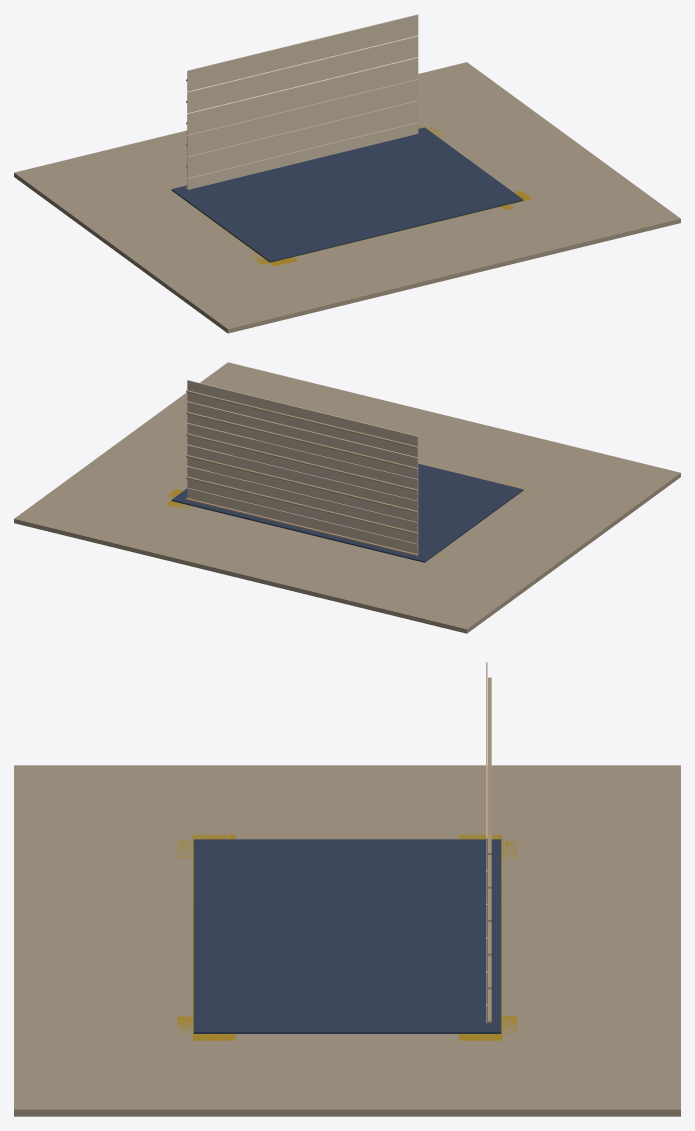
File: stage_06_walls.glb
The picture shows the model from 3 angles, top to bottom: view 1: azimuth 30°, elevation 25°; view 2: azimuth 150°, elevation 25°; view 3: azimuth 270°, elevation 25°; orthographic projection. The views are drawn at different scales.
Visible parts, largest first — view 1: world; view 2: world; view 3: world.
Boxes of the visible parts, bbox=[...] form: world: bbox=[14, 14, 680, 333]; world: bbox=[14, 362, 680, 633]; world: bbox=[14, 662, 680, 1116].
Bounding box in the file's own units: 11 × 3.59 × 9.
